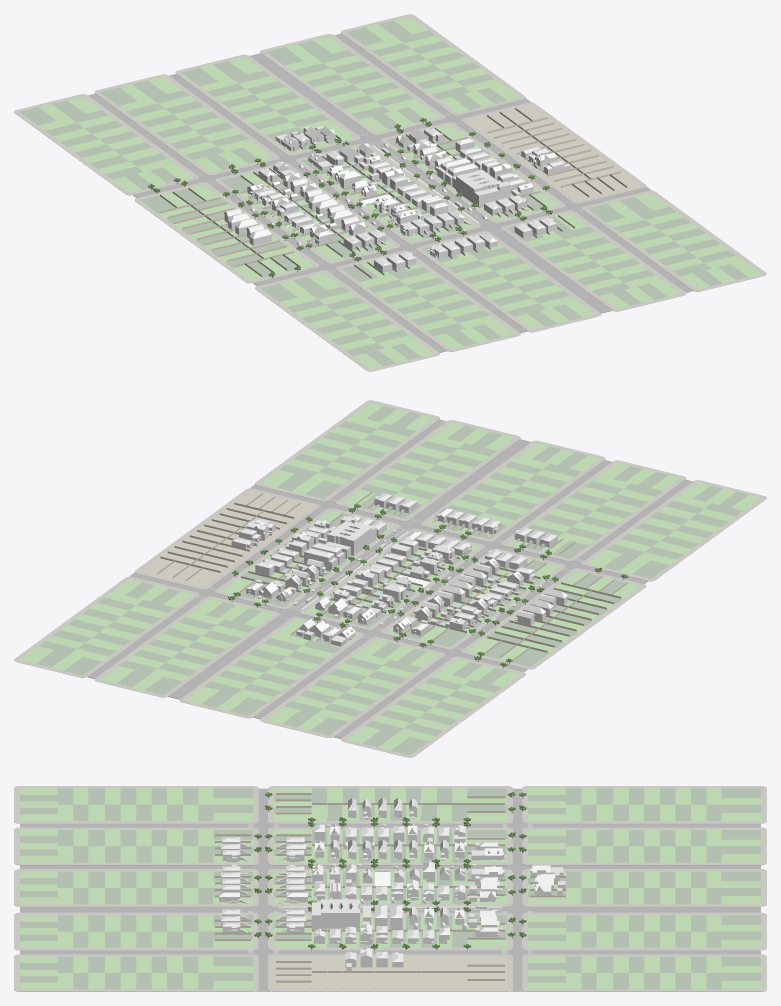
The model's file is BackgroundColorv4.glb.
The picture shows the model from 3 angles, top to bottom: view 1: azimuth 30°, elevation 25°; view 2: azimuth 150°, elevation 25°; view 3: azimuth 270°, elevation 25°; orthographic projection. The views are drawn at different scales.
Visible parts, largest first — view 1: Plates 0, Plates 1, Sidewalk, Homes, Road, Fences, Plates 2, Trees; view 2: Plates 0, Plates 1, Sidewalk, Homes, Road, Fences, Plates 2, Trees; view 3: Plates 0, Plates 1, Sidewalk, Homes, Road, Plates 2, Fences, Trees.
Boxes of the visible parts, <box> form: Plates 0: <box>39,16,760,368</box>; Plates 1: <box>20,20,747,365</box>; Sidewalk: <box>14,14,766,371</box>; Homes: <box>224,126,571,272</box>; Road: <box>88,33,692,352</box>; Fences: <box>160,108,626,278</box>; Plates 2: <box>467,105,640,200</box>; Trees: <box>148,118,552,277</box>; Plates 0: <box>20,402,760,750</box>; Plates 1: <box>36,406,748,754</box>; Sidewalk: <box>14,400,766,757</box>; Homes: <box>231,493,567,646</box>; Road: <box>88,419,692,738</box>; Fences: <box>157,491,627,661</box>; Plates 2: <box>140,491,313,586</box>; Trees: <box>228,504,627,667</box>; Plates 0: <box>20,788,760,989</box>; Plates 1: <box>20,788,760,989</box>; Sidewalk: <box>14,786,766,991</box>; Homes: <box>219,798,565,970</box>; Road: <box>20,788,760,991</box>; Plates 2: <box>274,956,506,989</box>; Fences: <box>215,787,565,988</box>; Trees: <box>254,792,526,950</box>.
Bounding box in the file's own units: 382 × 35.81 × 590.
